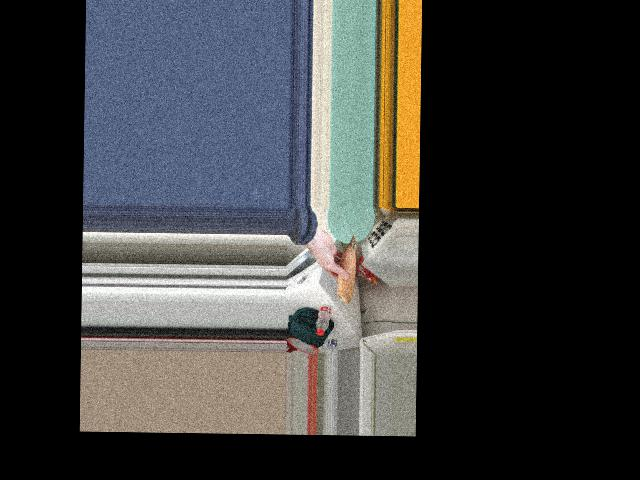sweet_potato: (333, 236, 356, 297)
